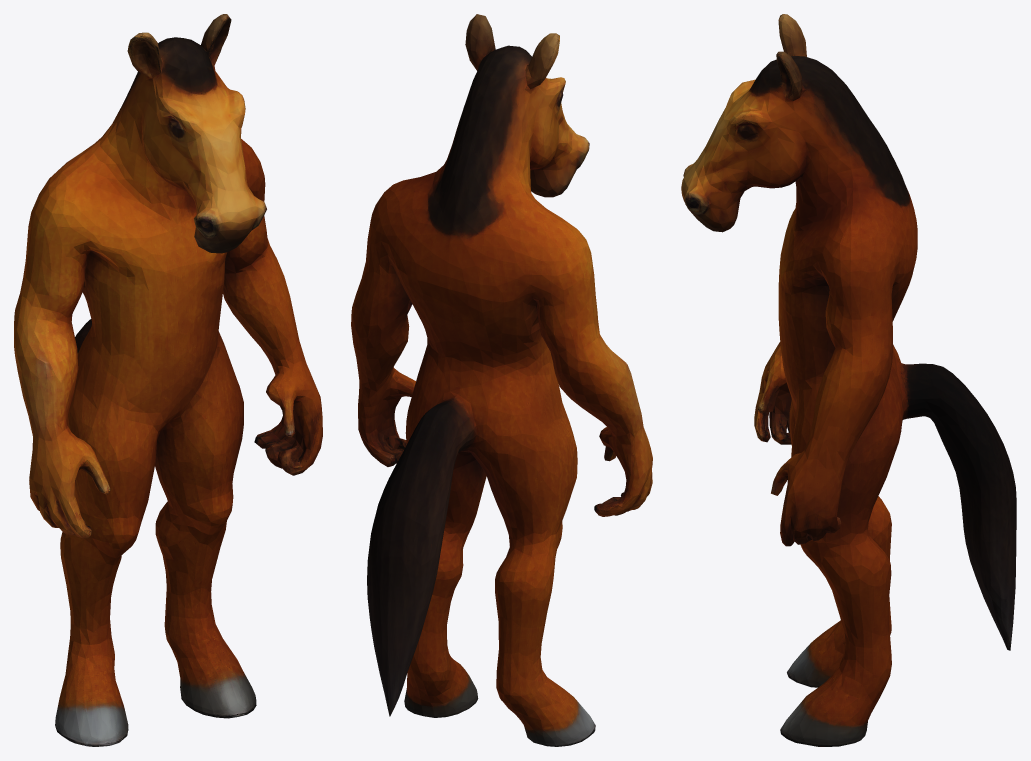
Rendered from cheval-realiste.glb.
The picture shows the model from 3 angles, left to right: view 1: azimuth 30°, elevation 25°; view 2: azimuth 150°, elevation 25°; view 3: azimuth 270°, elevation 25°; orthographic projection. The views are drawn at different scales.
Visible parts, largest first — view 1: geometry_0; view 2: geometry_0; view 3: geometry_0.
Part boxes in pixels (x1,y1,x2,y2): geometry_0: (14, 14, 322, 746); geometry_0: (351, 14, 652, 746); geometry_0: (681, 14, 1016, 746).
Bounding box in the file's own units: 0.4291 × 1 × 0.4519.
Materials: 1 (1 with a texture image).
